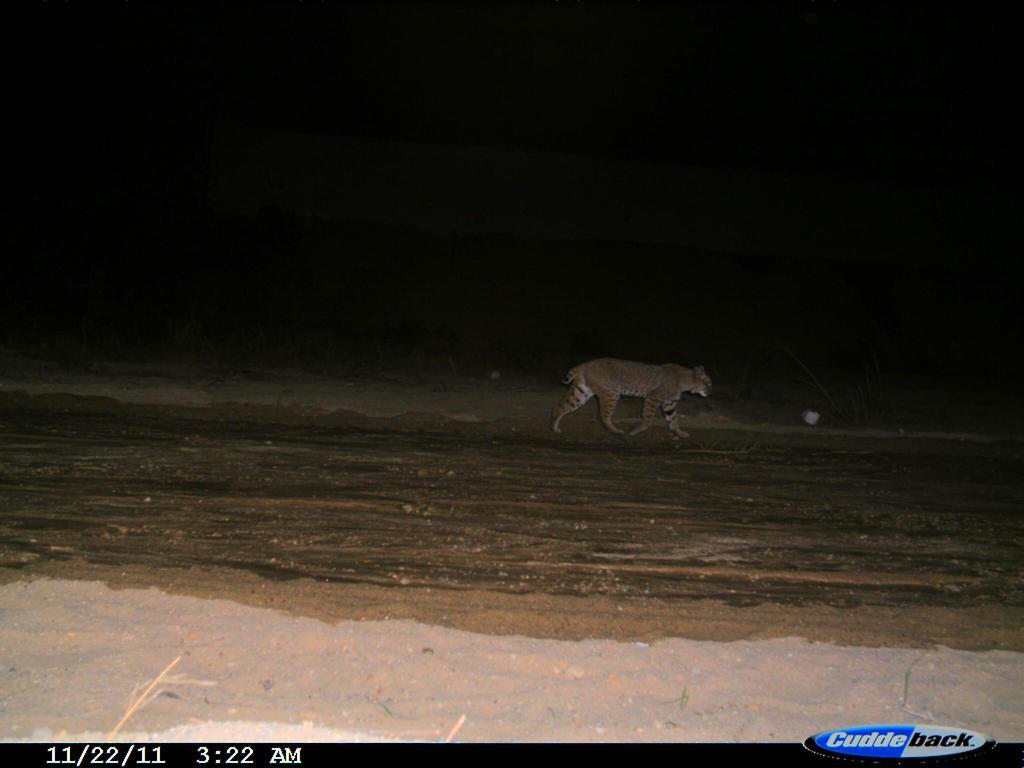bobcat: (547, 353, 719, 450)
